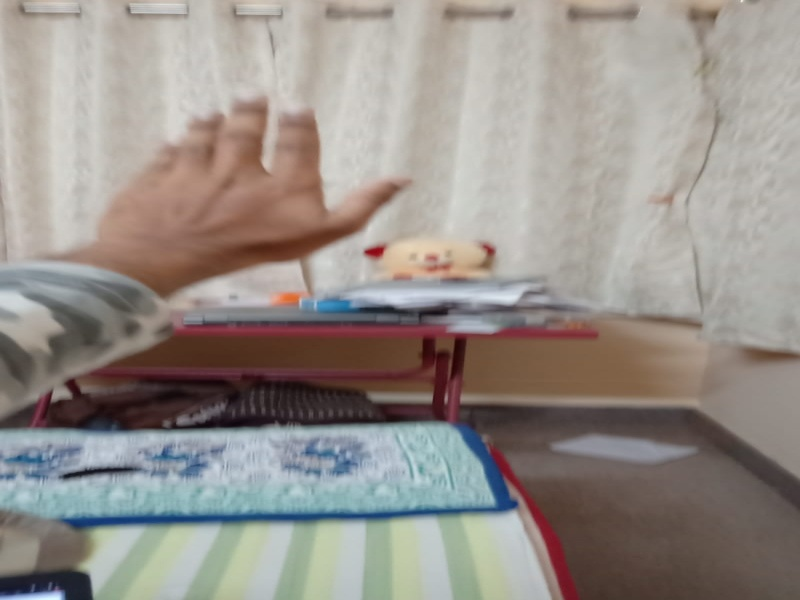Hand: (99, 81, 420, 273)
